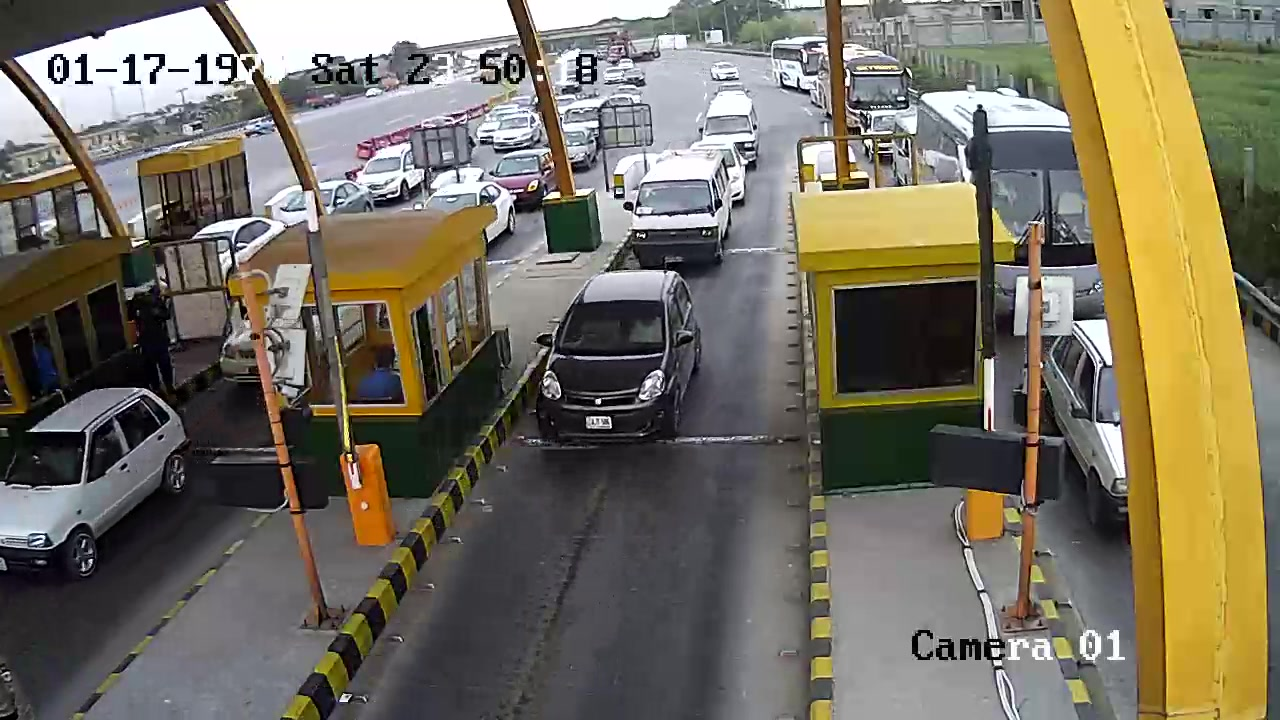F1: (525, 264, 711, 454)
